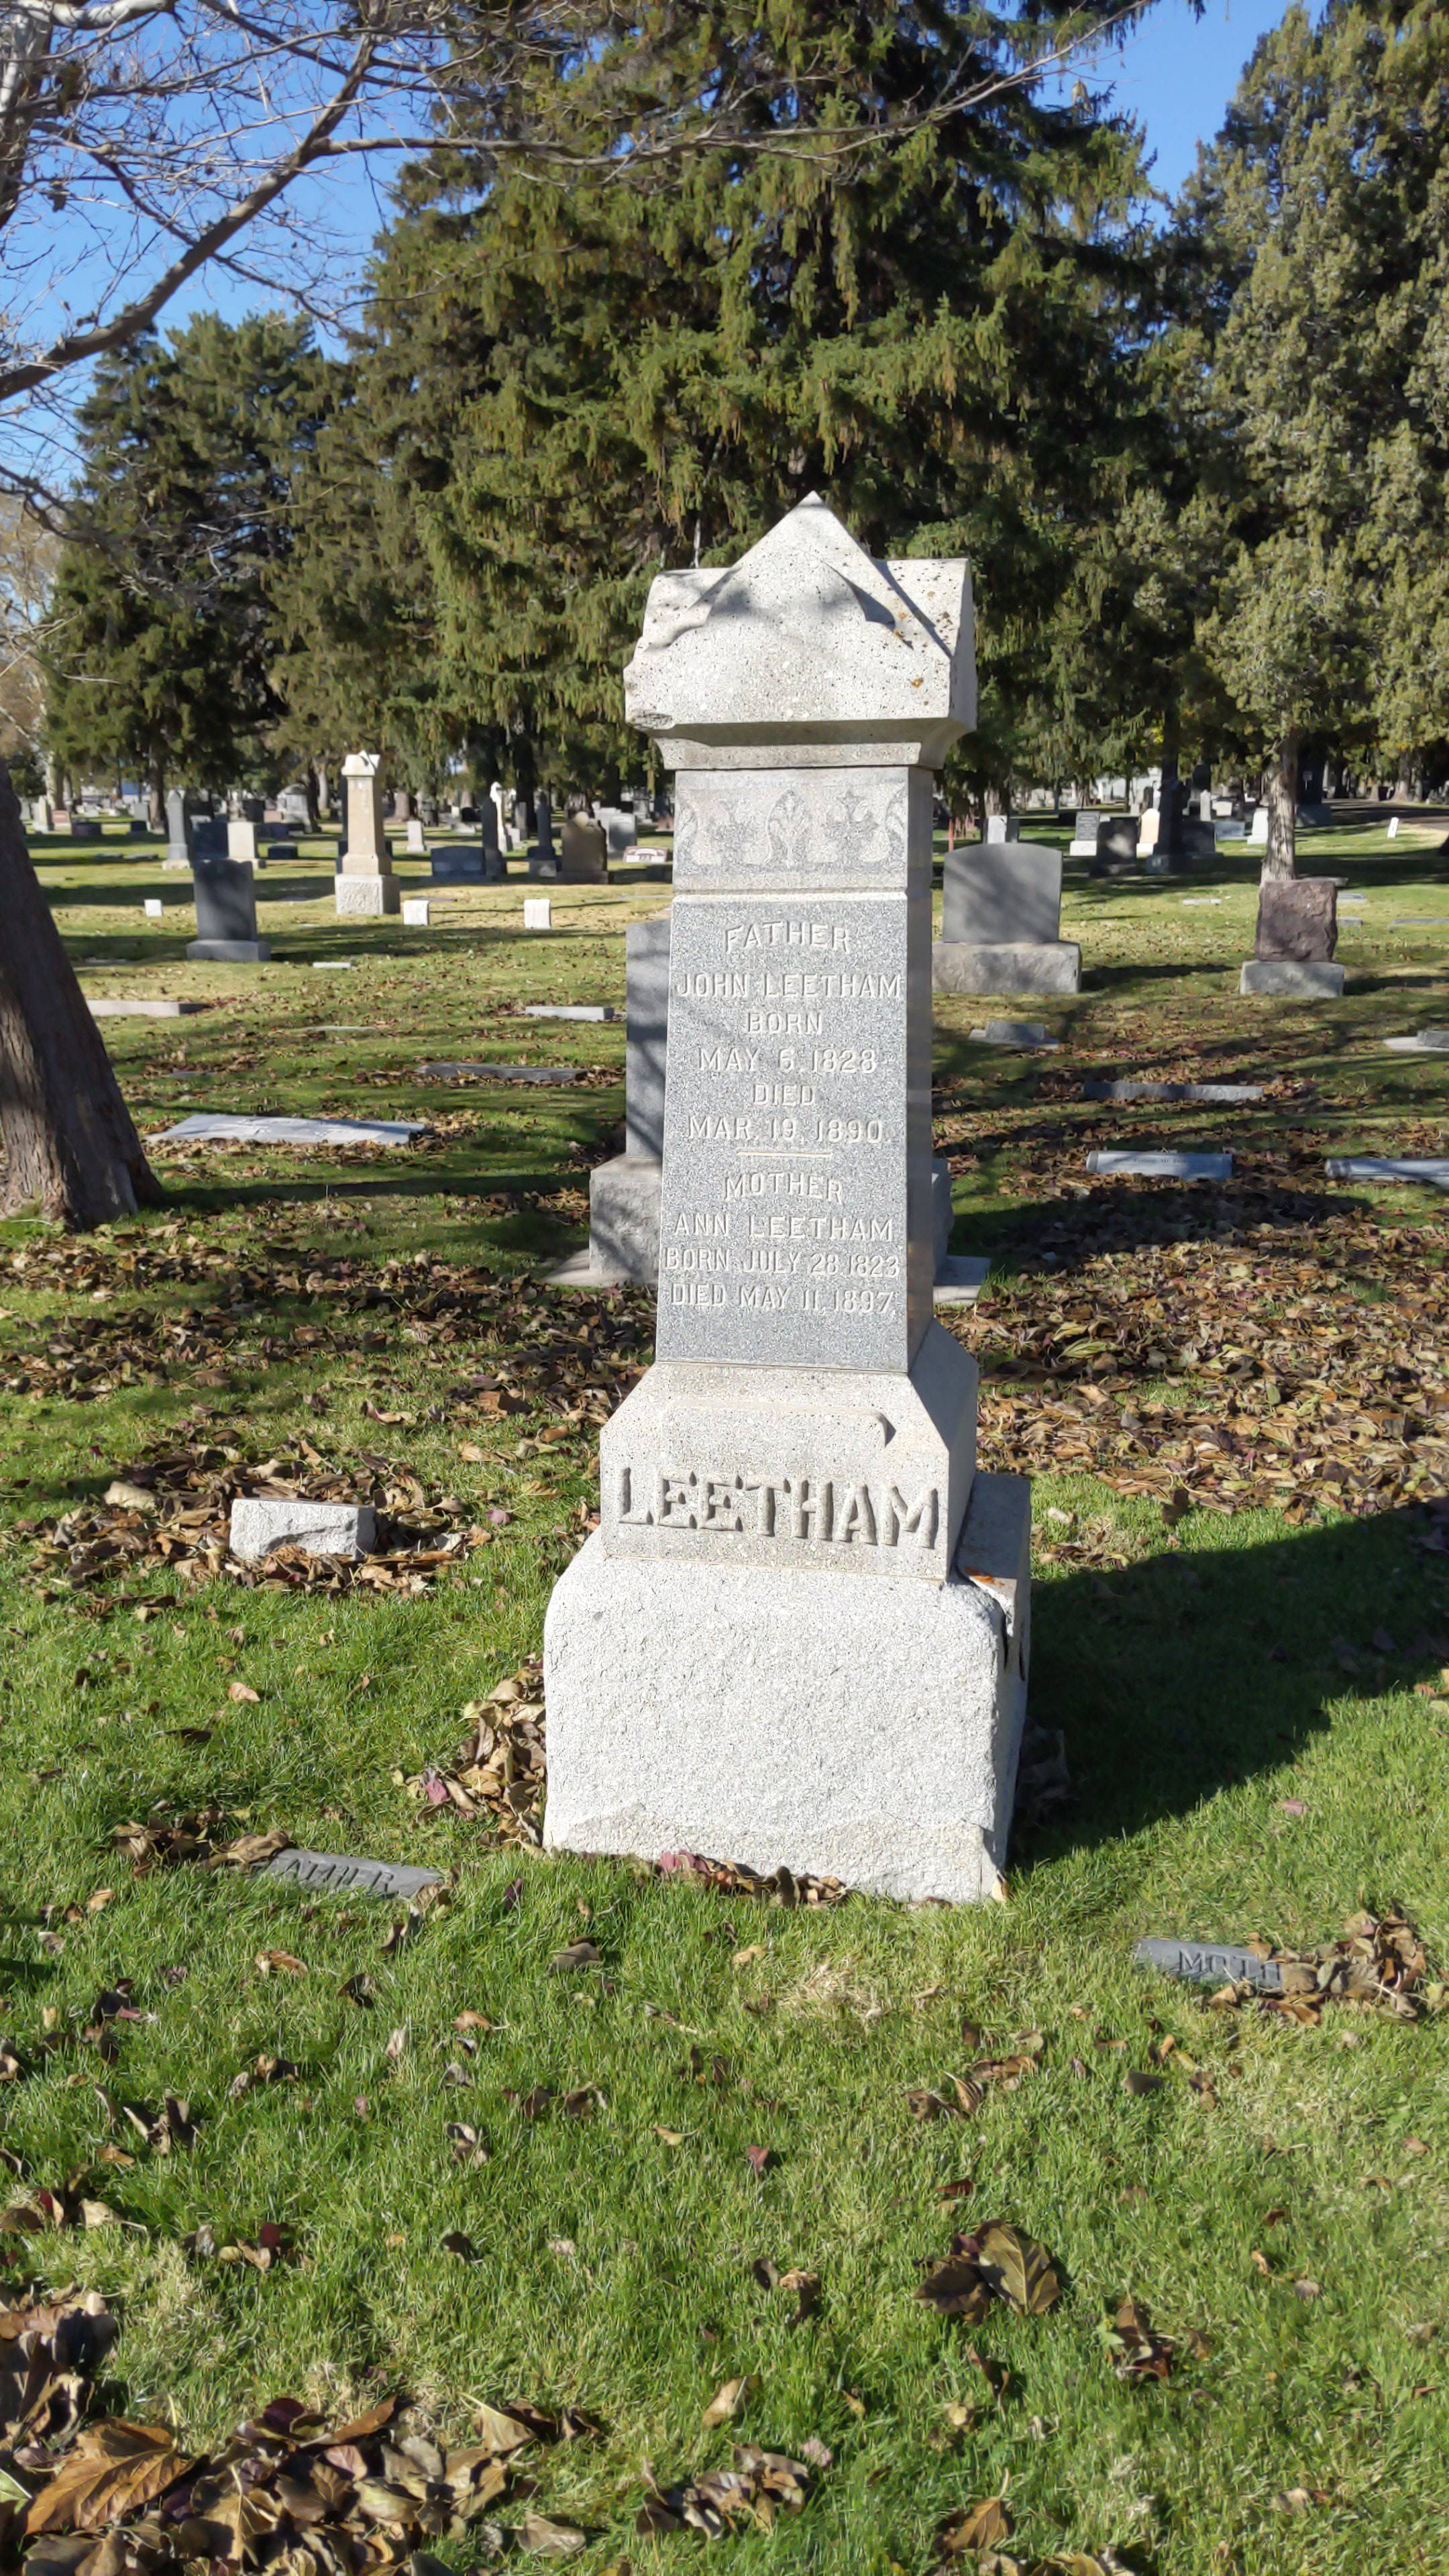obelisk: (594, 504, 978, 1585)
